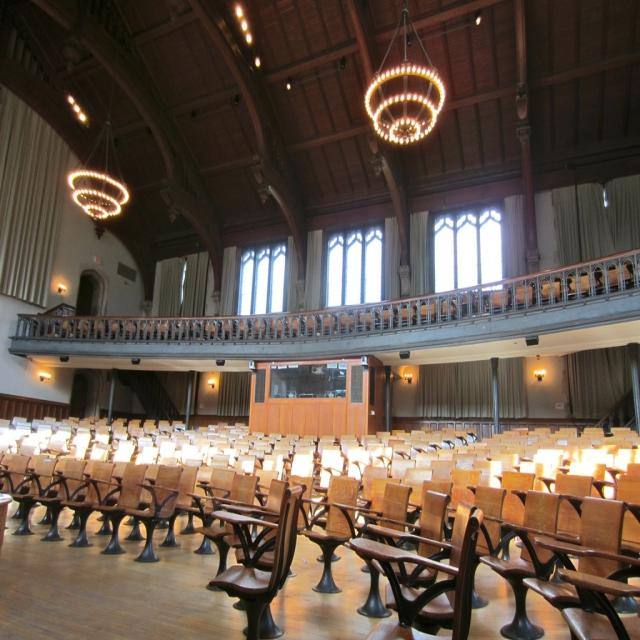Chair: (0, 418, 639, 550), (50, 254, 640, 338), (348, 507, 483, 639), (523, 496, 628, 639), (476, 490, 567, 639), (332, 484, 410, 618), (230, 476, 306, 612), (443, 486, 510, 612), (294, 471, 362, 594), (362, 489, 449, 584), (198, 473, 260, 580), (122, 463, 187, 564), (556, 568, 640, 638), (92, 460, 148, 555), (62, 457, 117, 551), (221, 476, 287, 553), (183, 468, 236, 558), (35, 460, 88, 542), (10, 458, 57, 538), (0, 454, 31, 496)
